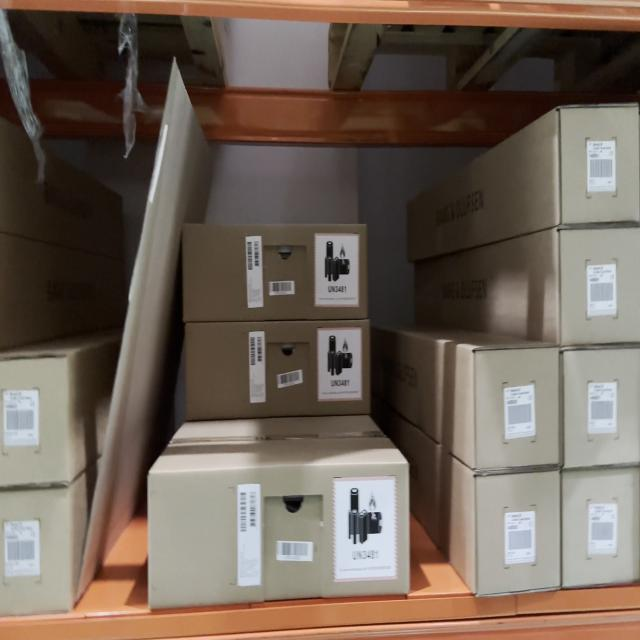box: (148, 469, 409, 602), (182, 221, 368, 327), (184, 320, 368, 419), (472, 350, 563, 472), (474, 469, 560, 586), (563, 346, 640, 471), (561, 106, 640, 226), (560, 227, 640, 345), (563, 471, 640, 586)
